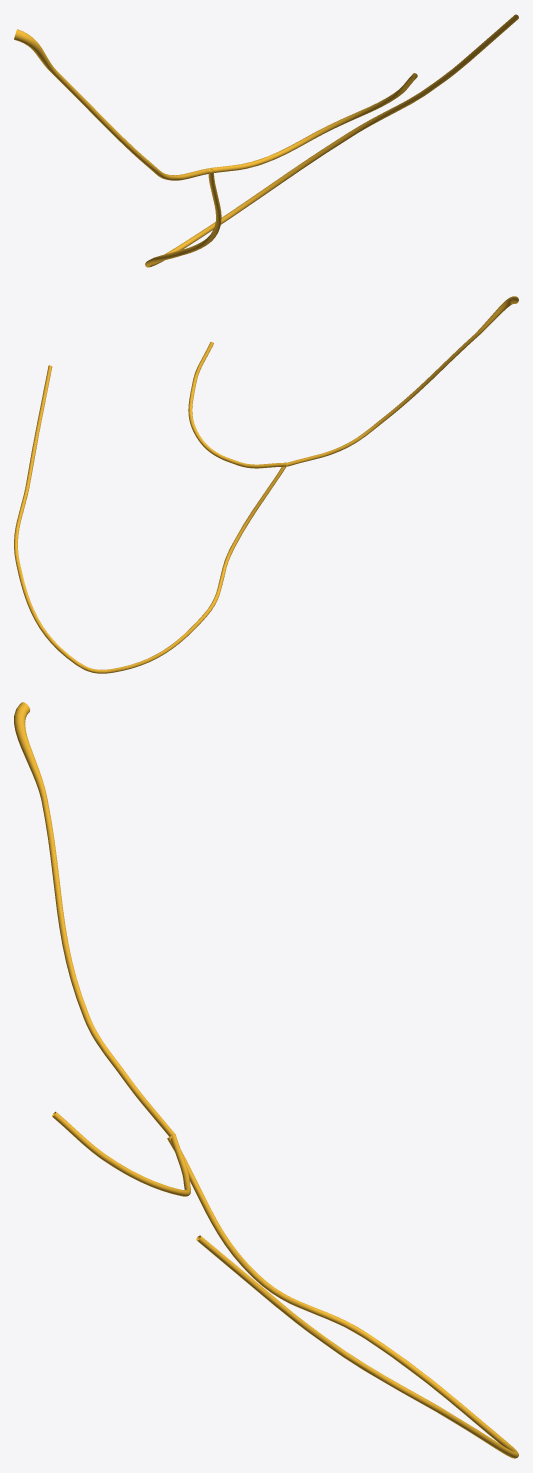
Rendered from nervoso-axillary-nerve-l.glb.
3 views of the same model, one above another, from view 1: azimuth 30°, elevation 25°; view 2: azimuth 150°, elevation 25°; view 3: azimuth 270°, elevation 25° (orthographic). The views are drawn at different scales.
Parts seen in each view (by area): view 1: Superior lateral brachial cutaneous nerve.l, Axillary nerve.l, Muscular branches of axillary nerve.l; view 2: Superior lateral brachial cutaneous nerve.l, Axillary nerve.l, Muscular branches of axillary nerve.l; view 3: Superior lateral brachial cutaneous nerve.l, Axillary nerve.l, Muscular branches of axillary nerve.l.
Boxes of the visible parts, x1,y1,x2,y2 form: Superior lateral brachial cutaneous nerve.l: (145,14,518,267); Axillary nerve.l: (14,29,209,180); Muscular branches of axillary nerve.l: (208,73,417,173); Superior lateral brachial cutaneous nerve.l: (14,365,286,673); Axillary nerve.l: (286,296,518,466); Muscular branches of axillary nerve.l: (188,342,287,468); Superior lateral brachial cutaneous nerve.l: (167,1136,518,1458); Axillary nerve.l: (14,702,174,1136); Muscular branches of axillary nerve.l: (52,1111,190,1196).
Size of the model in its own units: 0.1199 by 0.0918 by 0.0781.
